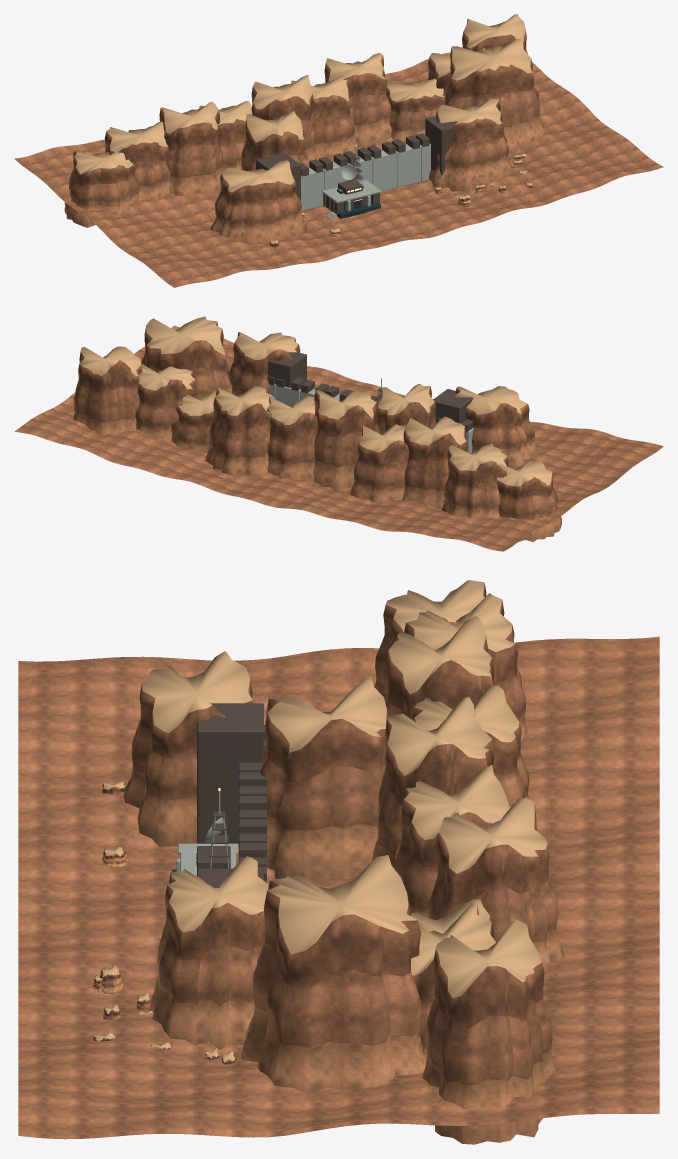
The model's file is dune-03-v1.glb.
The picture shows the model from 3 angles, top to bottom: view 1: azimuth 30°, elevation 25°; view 2: azimuth 150°, elevation 25°; view 3: azimuth 270°, elevation 25°; orthographic projection. The views are drawn at different scales.
Parts seen in each view (by area): view 1: desert strata 1.001, Surface mantle.003, desert strata 2.001, desert strata 0.001, Concrete and brushed alloy.003, Oxidised armour.003, Recesses.003; view 2: desert strata 1.001, desert strata 2.001, Surface mantle.003, desert strata 0.001, Oxidised armour.003, Concrete and brushed alloy.003; view 3: desert strata 1.001, Surface mantle.003, desert strata 2.001, desert strata 0.001, Oxidised armour.003, Concrete and brushed alloy.003.
Part boxes in pixels (<box>): desert strata 1.001: <box>14,50,663,287</box>; Surface mantle.003: <box>74,14,532,244</box>; desert strata 2.001: <box>73,19,534,246</box>; desert strata 0.001: <box>64,116,545,245</box>; Concrete and brushed alloy.003: <box>301,143,430,219</box>; Oxidised armour.003: <box>256,116,457,214</box>; Recesses.003: <box>323,186,380,218</box>; desert strata 1.001: <box>14,325,663,551</box>; desert strata 2.001: <box>78,322,553,500</box>; Surface mantle.003: <box>79,316,552,486</box>; desert strata 0.001: <box>73,386,561,541</box>; Oxidised armour.003: <box>267,352,473,432</box>; Concrete and brushed alloy.003: <box>269,378,473,453</box>; desert strata 1.001: <box>18,635,659,1139</box>; Surface mantle.003: <box>94,580,547,1063</box>; desert strata 2.001: <box>93,583,549,1064</box>; desert strata 0.001: <box>93,678,564,1144</box>; Oxidised armour.003: <box>197,703,266,887</box>; Concrete and brushed alloy.003: <box>176,791,238,876</box>.
Bounding box in the file's own units: 202 × 37.9 × 115.
Materials: 8 (3 with a texture image).
